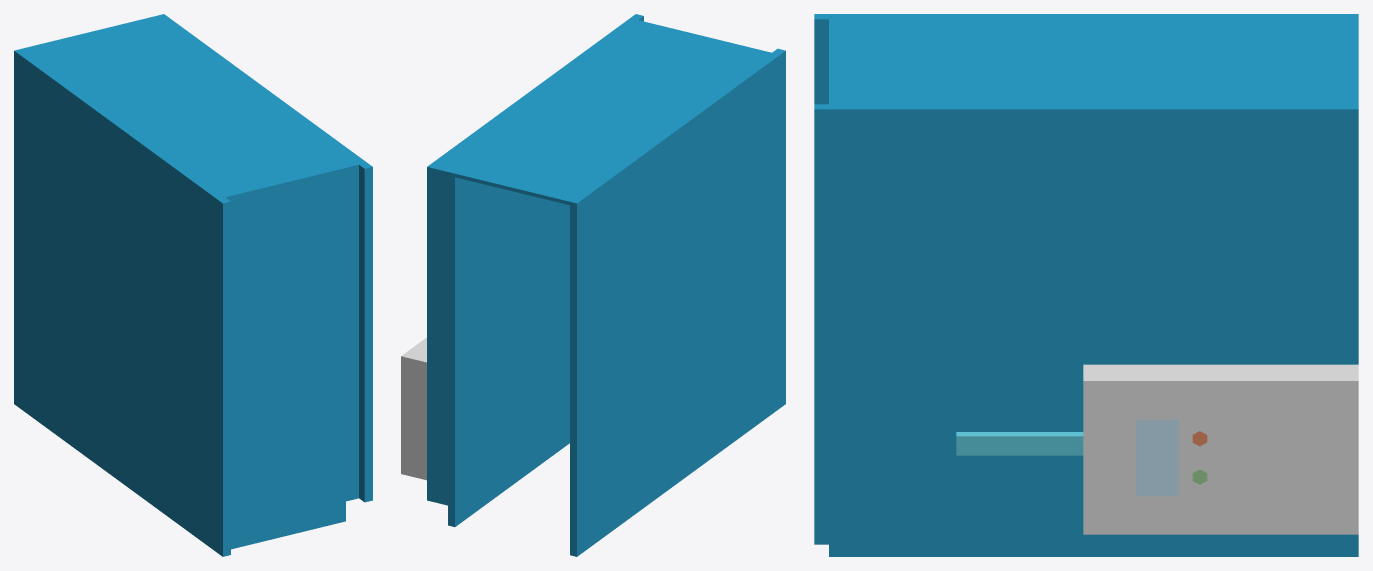
The model's file is drying_chamber.dae.
3 renders of one model, left to right at view 1: azimuth 30°, elevation 25°; view 2: azimuth 150°, elevation 25°; view 3: azimuth 270°, elevation 25°, orthographic. The views are drawn at different scales.
Visible parts, largest first — view 1: instance_0_001; view 2: instance_0_001, instance_0_005; view 3: instance_0_001, instance_0_005, instance_0, instance_0_004.
Boxes of the visible parts, box(x1,y1,x2,y2) form: instance_0_001: box(14, 14, 372, 556); instance_0_001: box(427, 14, 785, 556); instance_0_005: box(401, 337, 426, 480); instance_0_001: box(814, 14, 1358, 556); instance_0_005: box(1083, 364, 1358, 534); instance_0: box(1136, 419, 1178, 496); instance_0_004: box(956, 432, 1083, 455).
Bounding box in the file's own units: 984 × 1890 × 2024.
